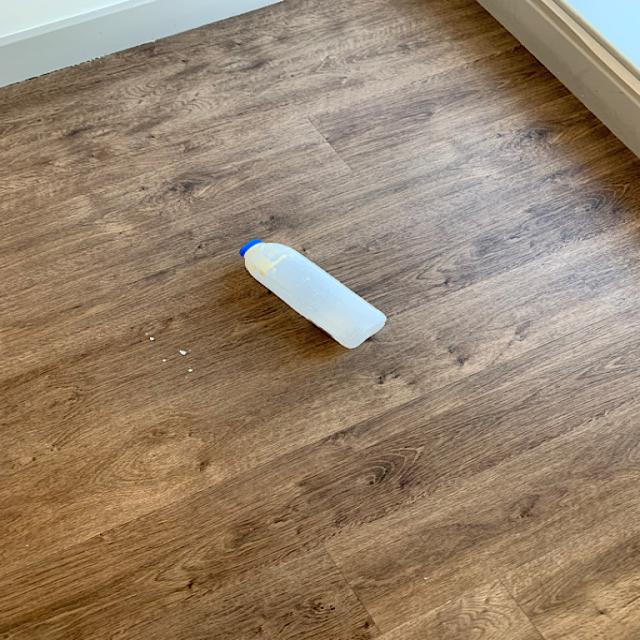litter: (240, 237, 392, 355)
